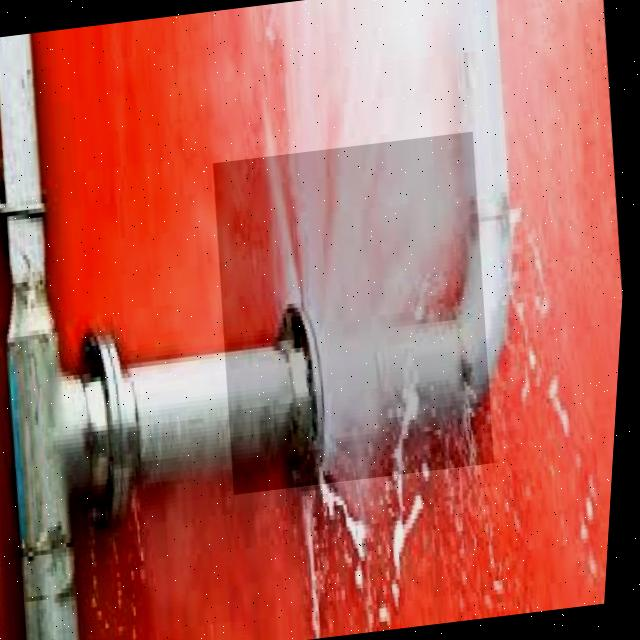corrosion: (188, 133, 497, 484)
